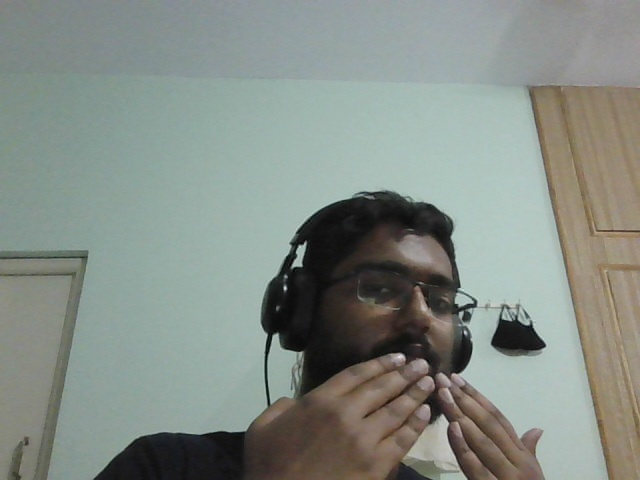Thank You: (236, 349, 545, 480)
